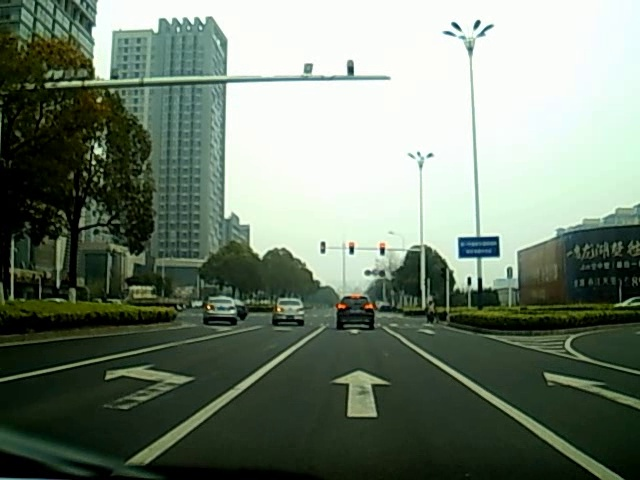Traffic_Light_stop: (379, 243, 386, 259), (349, 242, 355, 257)
